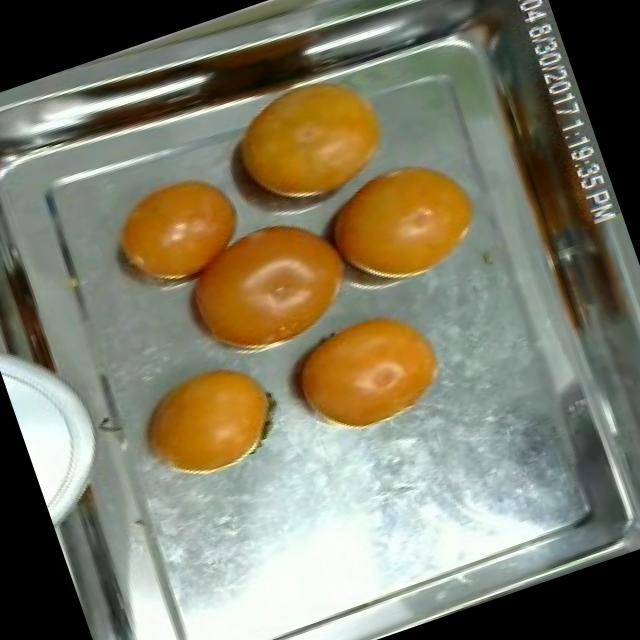Fruit: (138, 190, 378, 387), (207, 56, 412, 225), (107, 333, 305, 506), (264, 290, 466, 458), (302, 137, 499, 308), (84, 150, 270, 317)
